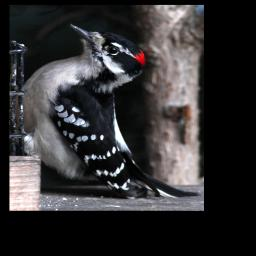Woodpecker: (15, 23, 201, 198)
